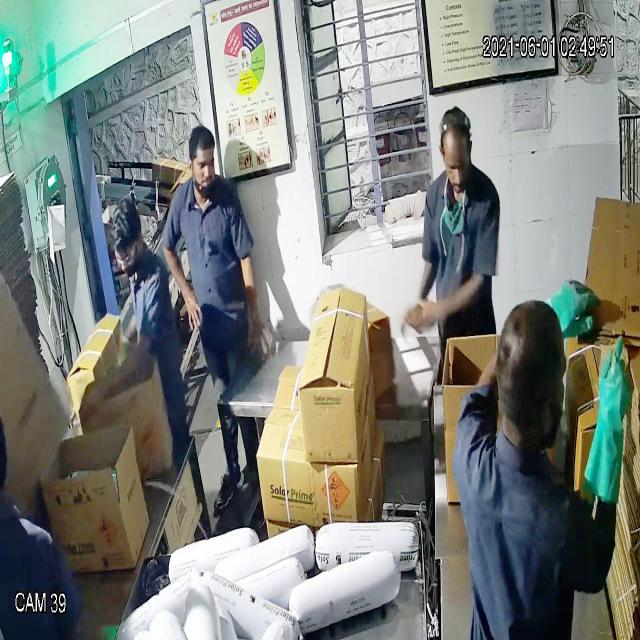glasses: (113, 241, 142, 274)
no-glass: (438, 153, 474, 184)
